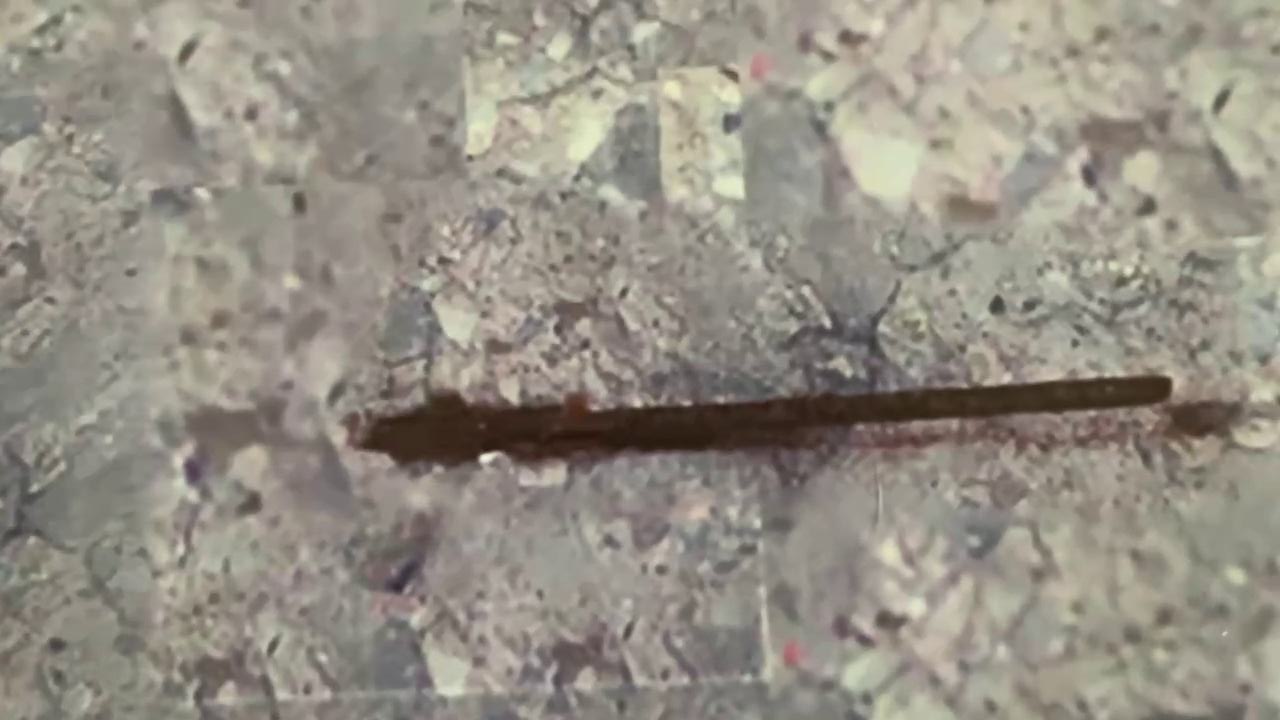Exposed reinforcement: (355, 373, 1173, 469)
